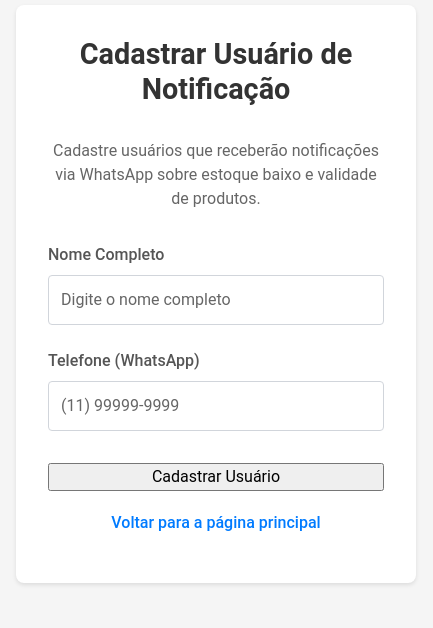
Test: NotificationUserRegister › deve validar nome completo obrigatório
The width and height of the screenshot is (433, 628).
In the field labelled "Telefone (WhatsApp)": (216, 406) [48, 380, 384, 430], type "11999999999"
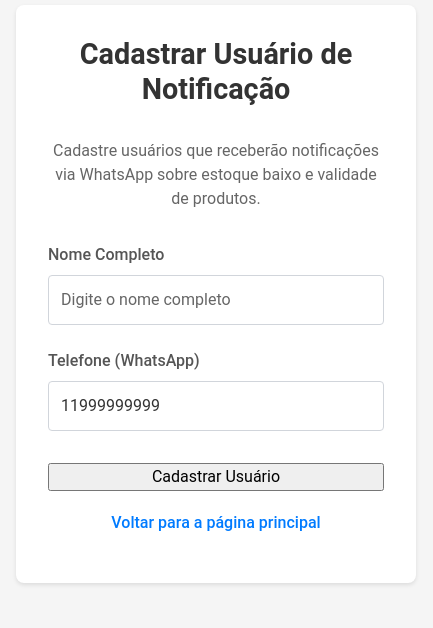
Click the button "Cadastrar Usuário": (216, 476) [48, 462, 384, 490]
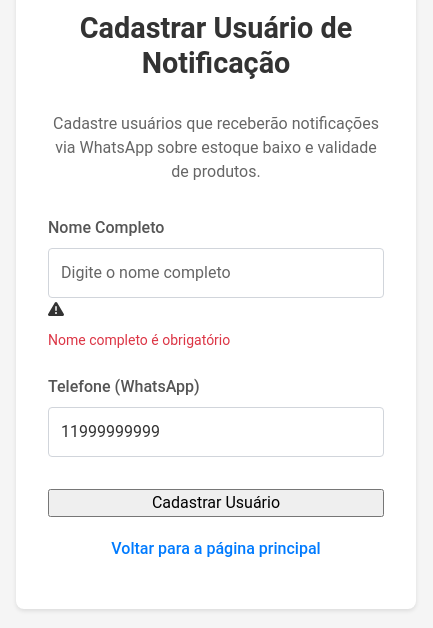
Check: the text "Nome completo é obrigatório" is shown, box [48, 332, 230, 348]
